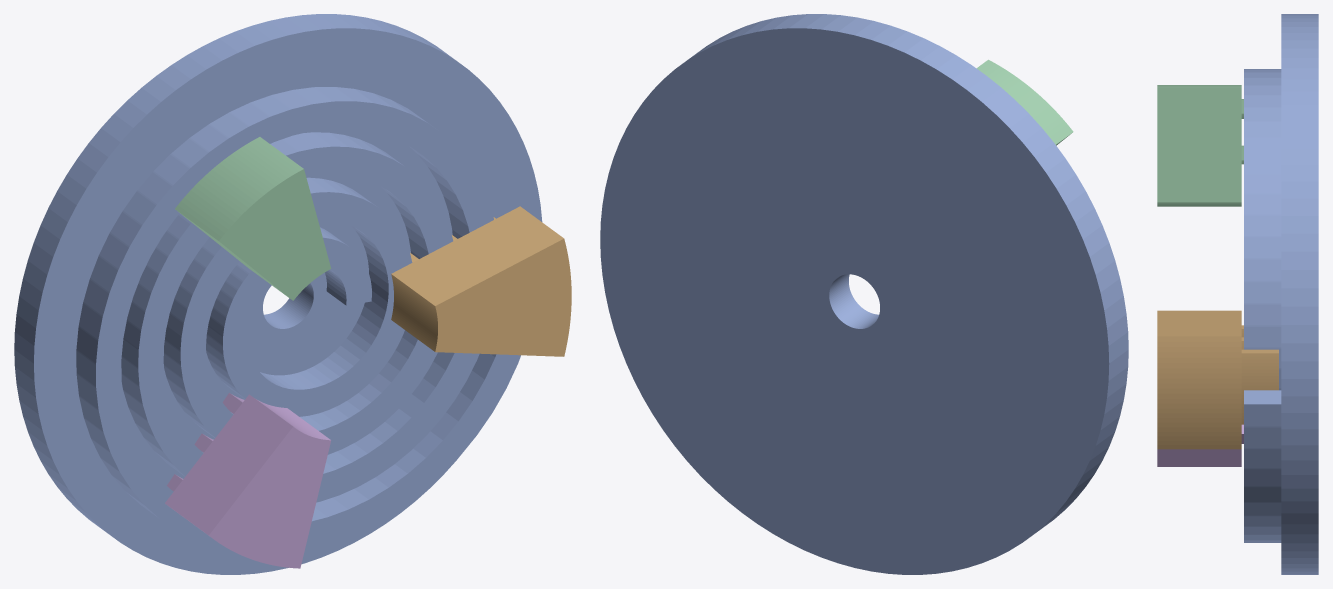
The model's file is scroll_drive_demo.glb.
3 views of the same model, side by side, from view 1: azimuth 30°, elevation 25°; view 2: azimuth 150°, elevation 25°; view 3: azimuth 270°, elevation 25° (orthographic). The views are drawn at different scales.
Visible parts, largest first — view 1: scroll_plate, scroll_jaw_0, scroll_jaw_2, scroll_jaw_1; view 2: scroll_plate, scroll_jaw_1; view 3: scroll_plate, scroll_jaw_0, scroll_jaw_1, scroll_jaw_2.
Part boxes in pixels (left/top/right/bottom): scroll_plate: left=14, top=14, right=542, bottom=574; scroll_jaw_0: left=391, top=206, right=571, bottom=356; scroll_jaw_2: left=165, top=393, right=331, bottom=568; scroll_jaw_1: left=175, top=137, right=331, bottom=300; scroll_plate: left=600, top=14, right=1128, bottom=574; scroll_jaw_1: left=976, top=59, right=1073, bottom=145; scroll_plate: left=1244, top=14, right=1318, bottom=574; scroll_jaw_0: left=1157, top=310, right=1278, bottom=449; scroll_jaw_1: left=1157, top=85, right=1243, bottom=206; scroll_jaw_2: left=1157, top=424, right=1243, bottom=466.
Size of the model in its own units: 60 by 60 by 17.25.
